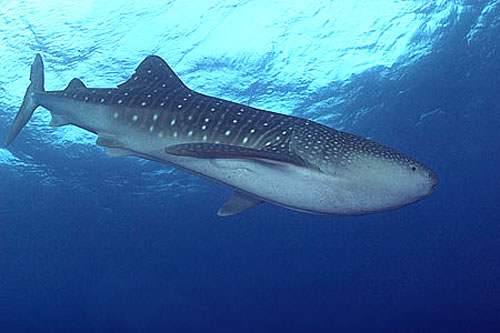Rhincodon_typusw: (4, 43, 456, 250)
